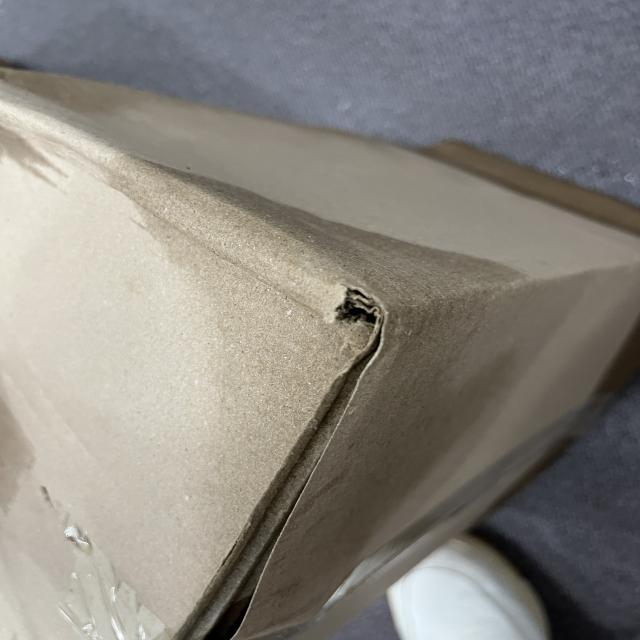wet: (98, 144, 527, 640)
